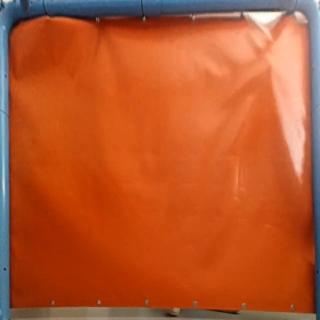Hit-hRxx: (262, 51, 281, 71)
